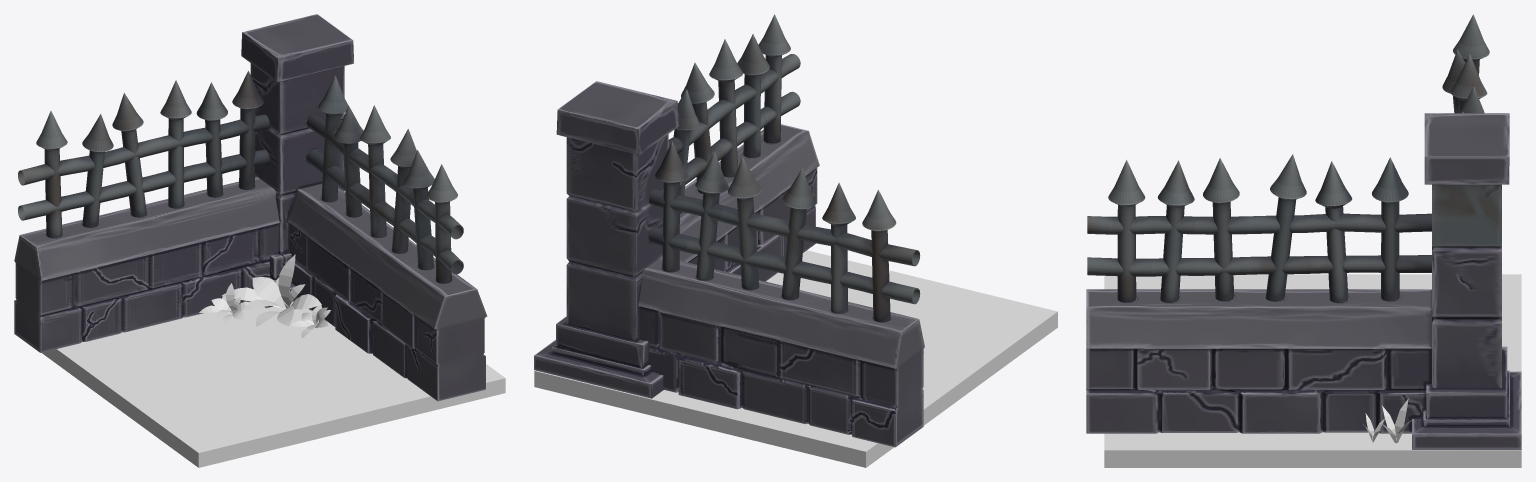
Rendered from GraveyardFenceFRCorner_New.fbx.
3 renders of one model, left to right at view 1: azimuth 30°, elevation 25°; view 2: azimuth 150°, elevation 25°; view 3: azimuth 270°, elevation 25°, orthographic. The views are drawn at different scales.
Visible parts, largest first — view 1: StoneFenceCorner_LP.009, NewFenceLeft.002, CornerGround_LP.031; view 2: StoneFenceCorner_LP.009, NewFenceLeft.002; view 3: StoneFenceCorner_LP.009, NewFenceLeft.002, CornerGround_LP.031.
Boxes of the visible parts, x1,y1,x2,y2 form: StoneFenceCorner_LP.009: (14, 14, 487, 401); NewFenceLeft.002: (42, 301, 505, 467); CornerGround_LP.031: (199, 254, 330, 337); StoneFenceCorner_LP.009: (534, 14, 924, 447); NewFenceLeft.002: (534, 250, 1057, 467); StoneFenceCorner_LP.009: (1086, 14, 1521, 449); NewFenceLeft.002: (1104, 274, 1521, 467); CornerGround_LP.031: (1363, 398, 1412, 443).
Bounding box in the file's own units: 220 × 164 × 214.
